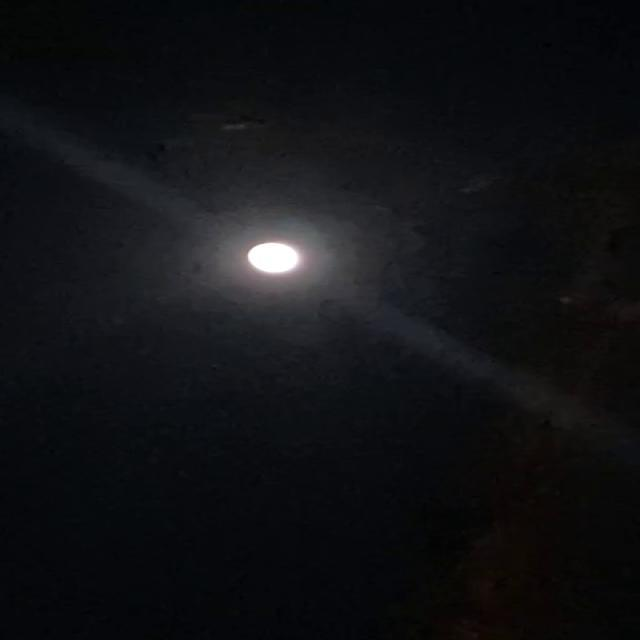moon: (223, 218, 350, 290)
